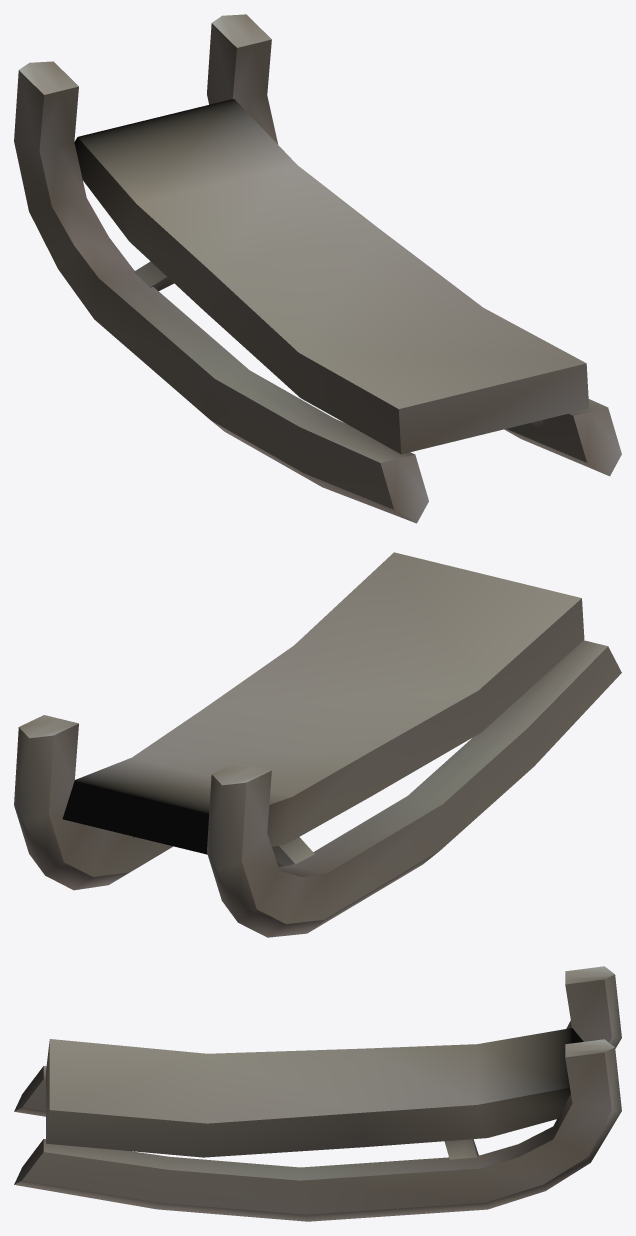
The model's file is skull_sled_a_prefab.glb.
3 views of the same model, one above another, from view 1: azimuth 30°, elevation 25°; view 2: azimuth 150°, elevation 25°; view 3: azimuth 270°, elevation 25° (orthographic). The views are drawn at different scales.
Visible parts, largest first — view 1: skull_sled_a; view 2: skull_sled_a; view 3: skull_sled_a.
Part boxes in pixels (x1,y1,x2,y2): skull_sled_a: (14, 14, 621, 523); skull_sled_a: (14, 552, 621, 937); skull_sled_a: (14, 966, 621, 1221).
Bounding box in the file's own units: 0.4943 × 0.4627 × 1.46.
